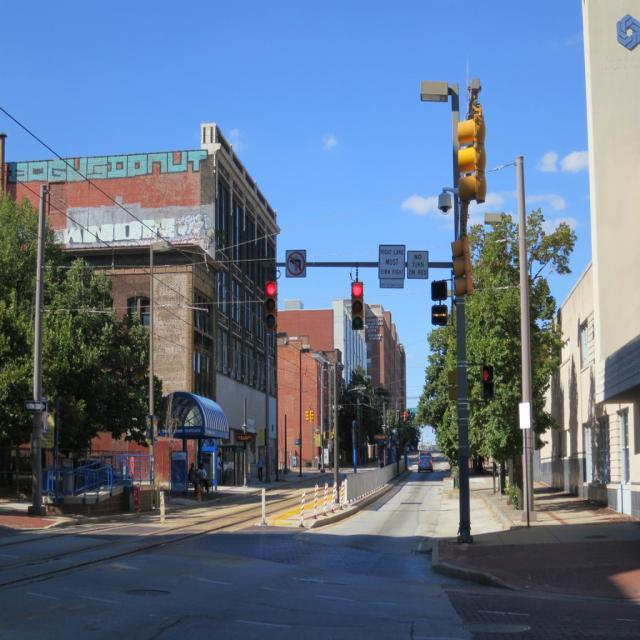traffic light: (351, 281, 364, 330), (264, 281, 277, 329)
